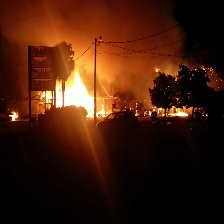fire: (46, 75, 99, 116), (144, 102, 191, 117), (8, 109, 22, 123)
smoke: (11, 7, 197, 58)
